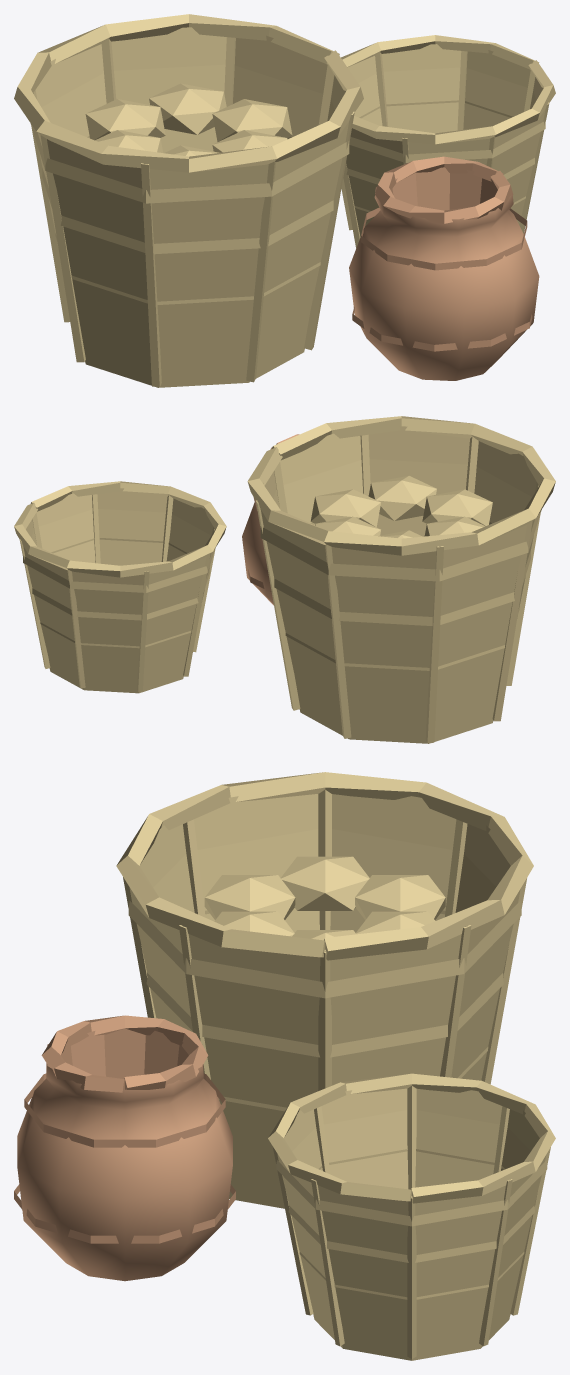
The model's file is yard_grain_baskets.glb.
3 views of the same model, one above another, from view 1: azimuth 30°, elevation 25°; view 2: azimuth 150°, elevation 25°; view 3: azimuth 270°, elevation 25° (orthographic). The views are drawn at different scales.
Visible parts, largest first — view 1: yard_grain_baskets; view 2: yard_grain_baskets; view 3: yard_grain_baskets.
Part boxes in pixels (box(x1,y1,x2,y2)): yard_grain_baskets: box(14, 14, 555, 387); yard_grain_baskets: box(14, 416, 555, 743); yard_grain_baskets: box(14, 772, 555, 1360).
Size of the model in its own units: 1.11 by 0.4974 by 0.8125.
